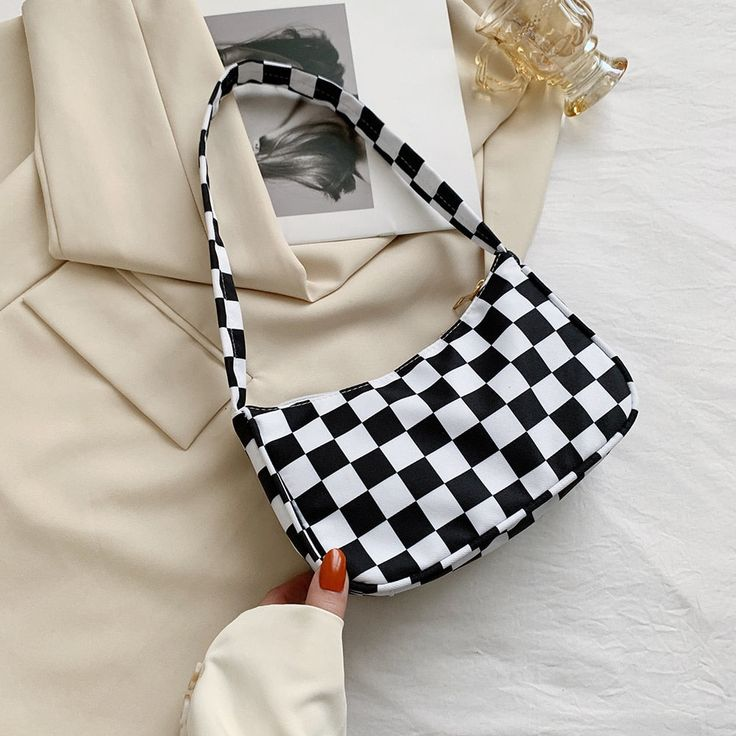nylon: (200, 59, 639, 599)
